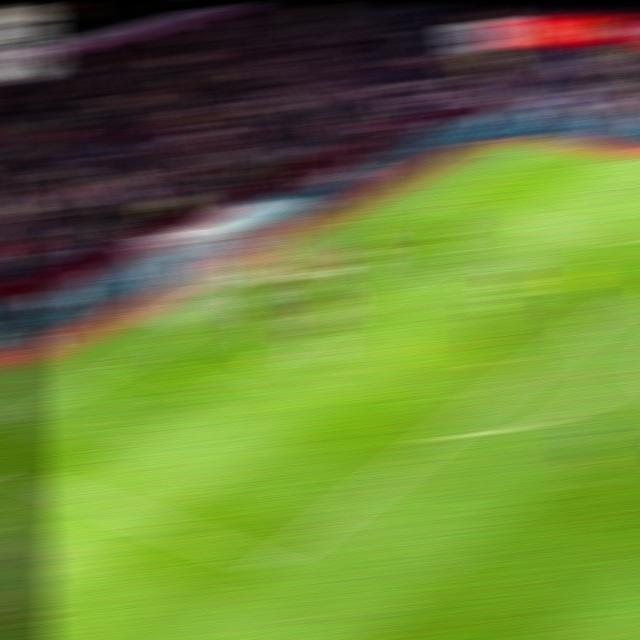bigarea_bottom_inner: (246, 549, 296, 580)
bigarea_top_outter: (417, 192, 457, 208)
bottom_arc_area_intersection: (420, 421, 465, 447)
corner: (520, 140, 564, 154)
smallarea_bottom_inner: (196, 374, 241, 399)
smallarea_bottom_outter: (110, 349, 152, 370)
smallarea_top_inner: (400, 261, 440, 280)
smallarea_top_outter: (320, 244, 358, 260)
top_arc_area_intersection: (568, 311, 614, 336)
